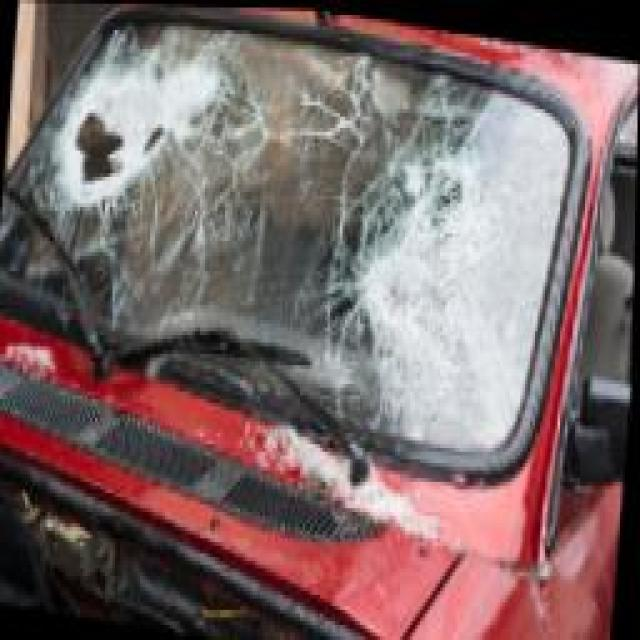Bonnet: (0, 316, 471, 640)
Windshield: (0, 0, 579, 493)
